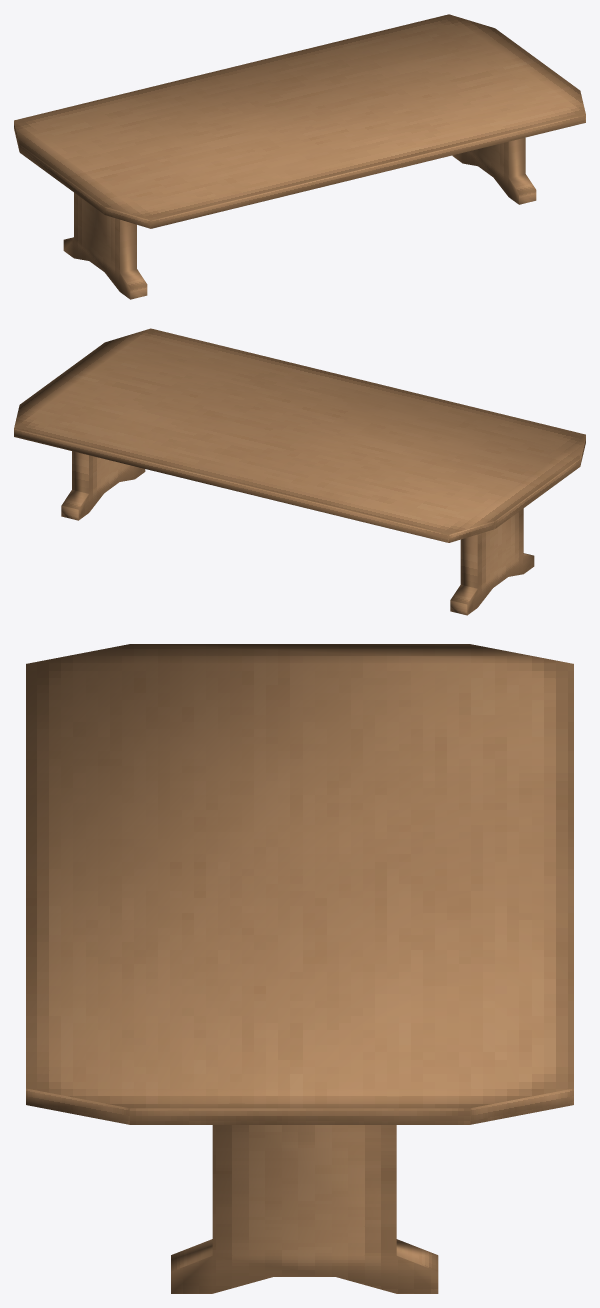
The model's file is conferencetable.fbx.
3 views of the same model, one above another, from view 1: azimuth 30°, elevation 25°; view 2: azimuth 150°, elevation 25°; view 3: azimuth 270°, elevation 25° (orthographic). The views are drawn at different scales.
Parts seen in each view (by area): view 1: conferencetable; view 2: conferencetable; view 3: conferencetable.
Boxes of the visible parts, box(x1,y1,x2,y2) form: conferencetable: box(14, 14, 585, 299); conferencetable: box(14, 328, 585, 615); conferencetable: box(26, 644, 573, 1293).
Size of the model in its own units: 322 by 70.66 by 160.
